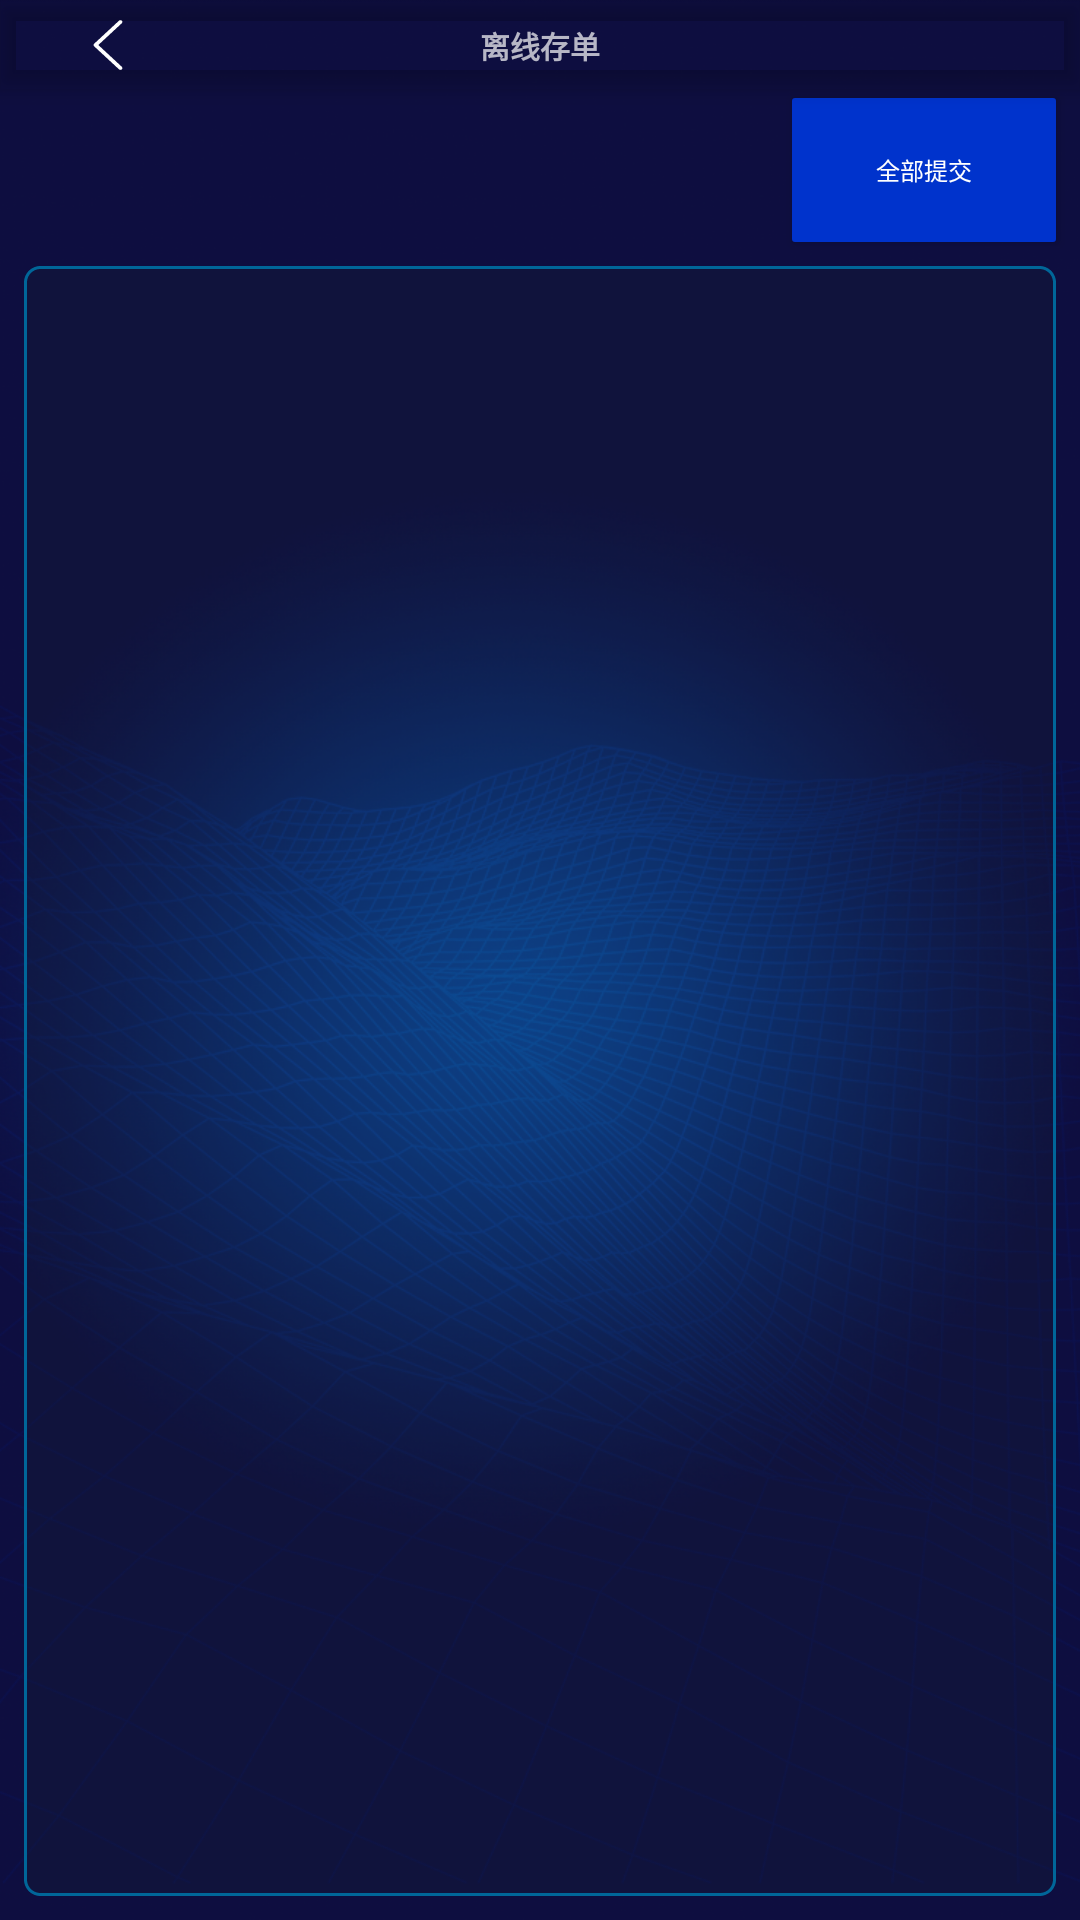

Named icons in this screenshot (1080px x 1920px) and their bounding boxes, (x1, y1, x2, y2):
back: (93, 20, 123, 70)
